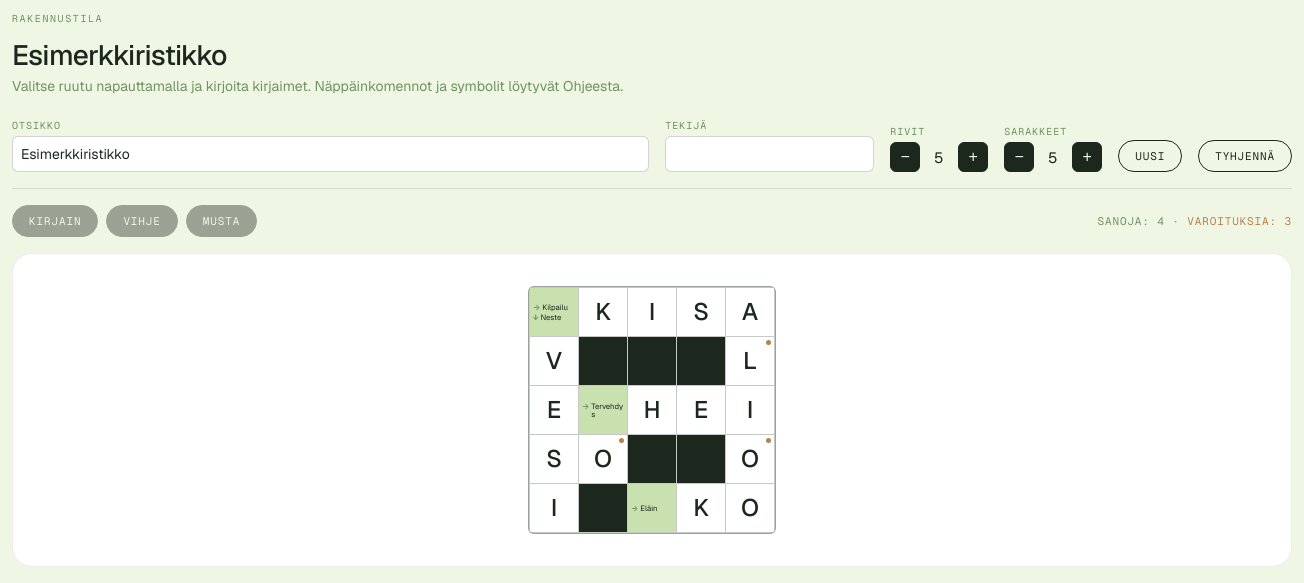
Test: BuildMode — clue editor › removes a clue
The width and height of the screenshot is (1304, 583).
Click the cell "→ Kilpailu ↓ Neste".
click(554, 312)  # box left=530, top=288, right=578, bottom=336
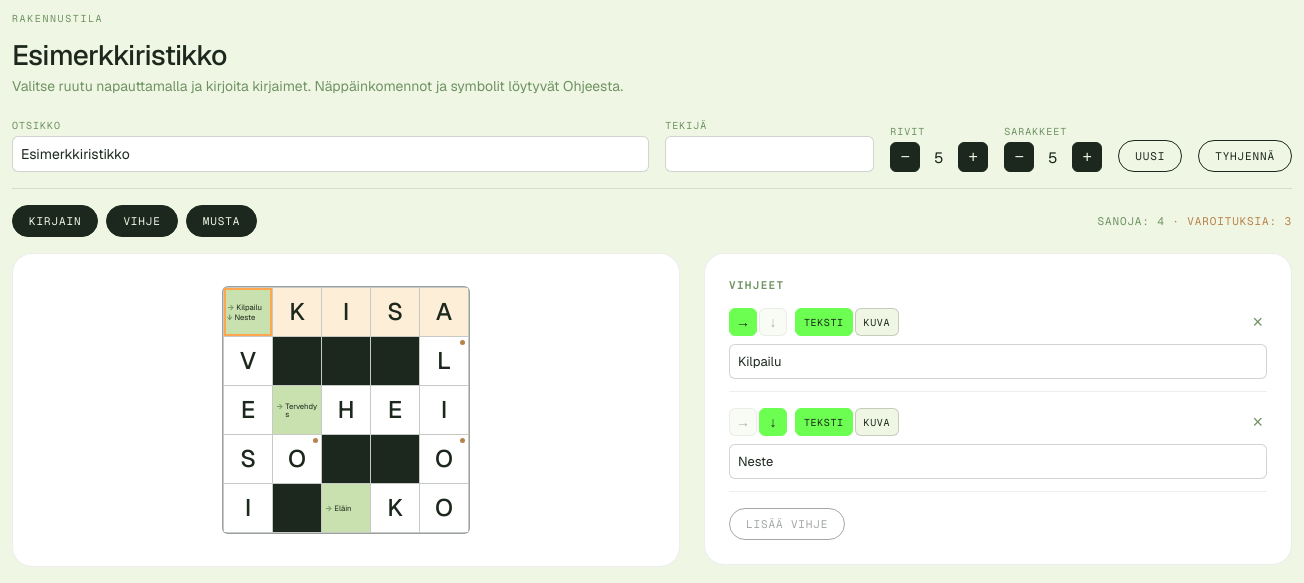
Click the 1st button with class "clue-row__remove".
click(1258, 322)  # box left=1248, top=313, right=1267, bottom=331
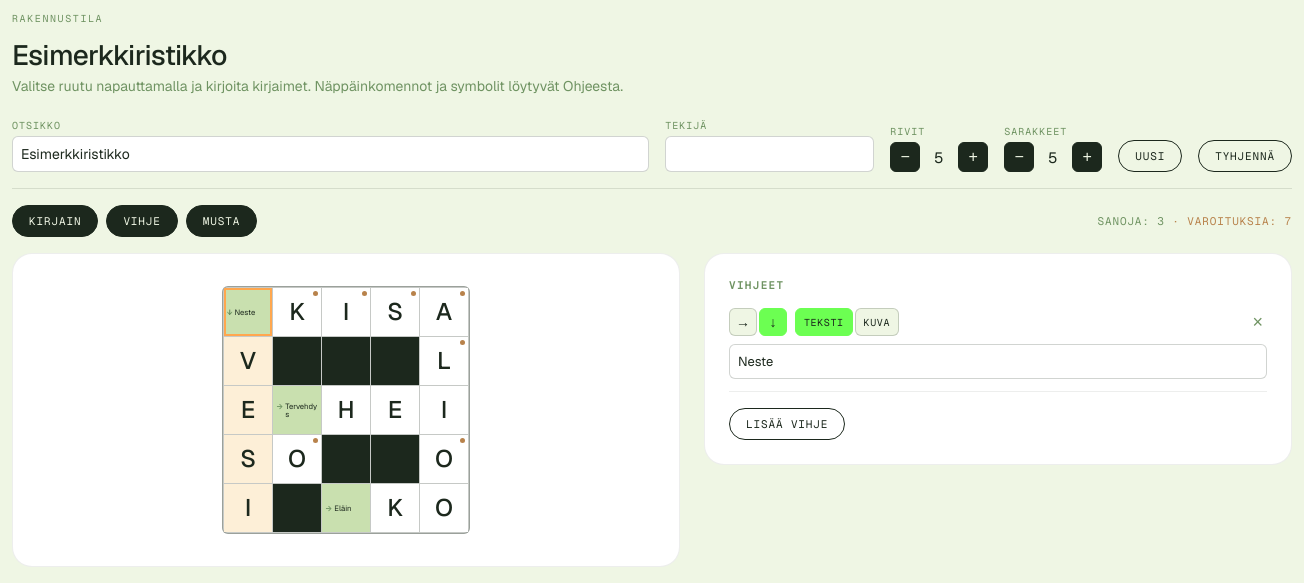
Expected: the number of elements with class "clue-row" is 1, left=729, top=308, right=1267, bottom=392
